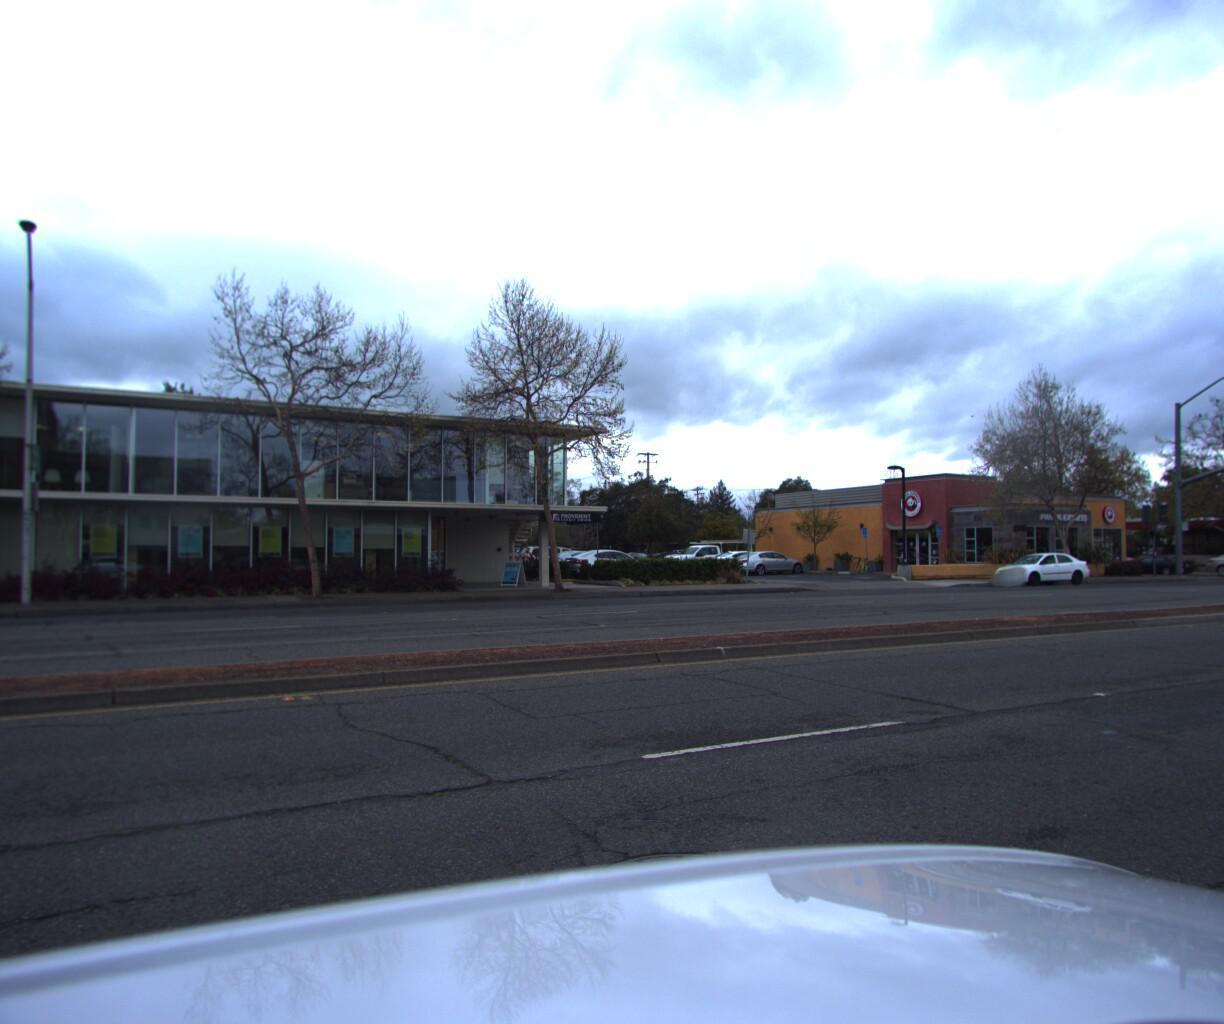car: (984, 562, 1093, 603), (1198, 561, 1224, 589)
